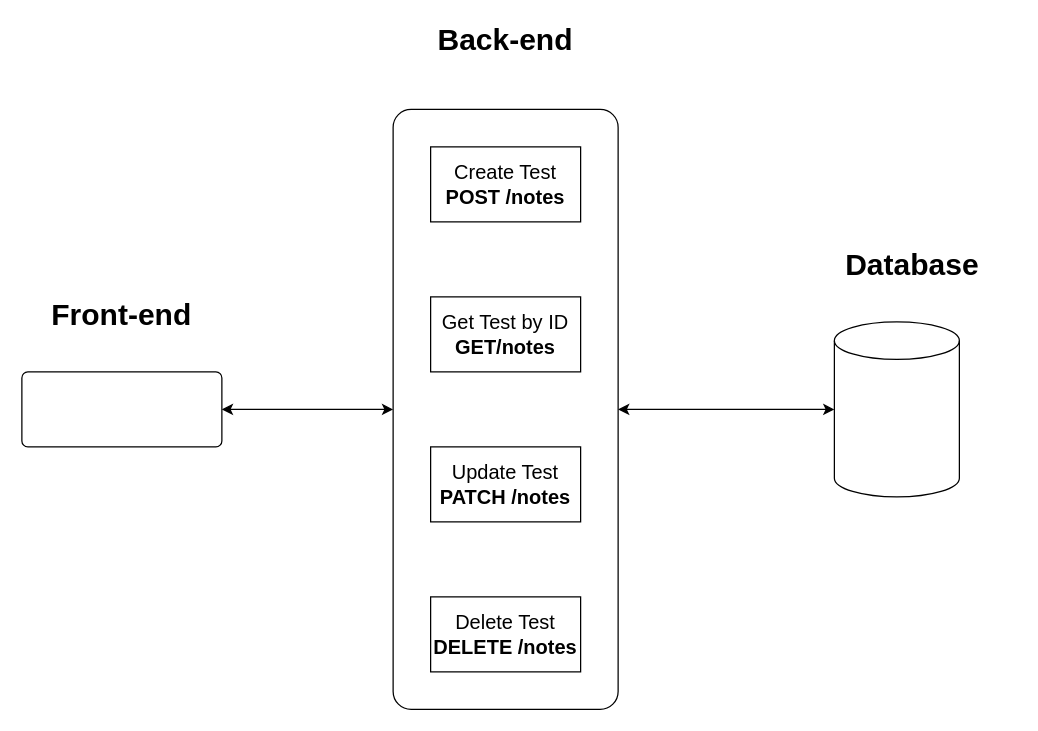
The diagram is 1038 pixels wide and 731 high, and some of its shapes have lost their labels. Each missing label, with the centre of its shape:
"customer web-form" goes at (x=121, y=409).
"PostgreSQL" goes at (x=896, y=409).
